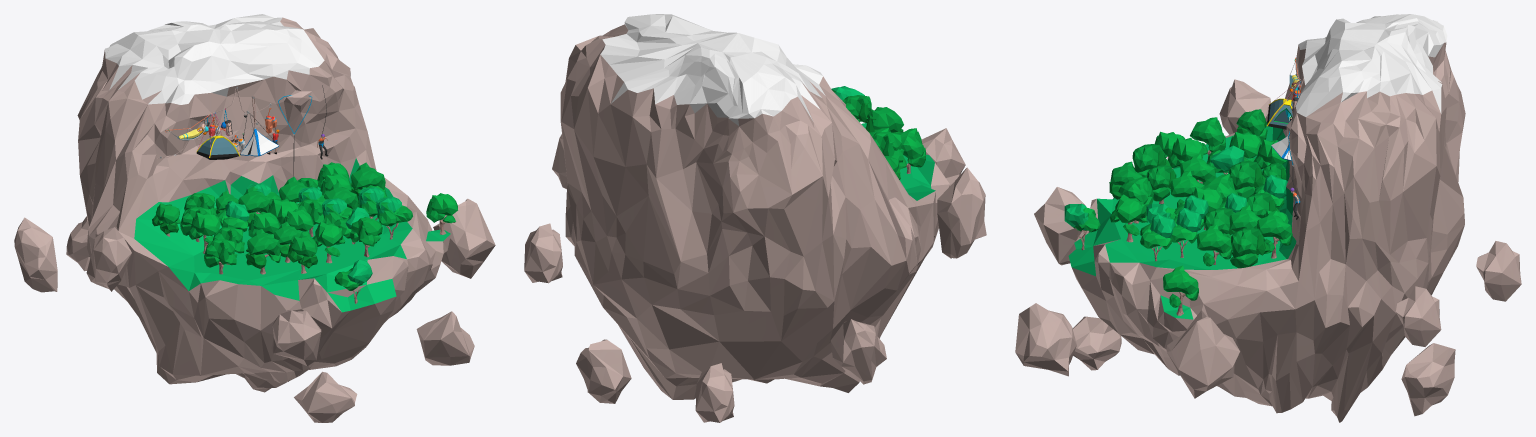
Rendered from land_96.fbx.
3 renders of one model, left to right at view 1: azimuth 30°, elevation 25°; view 2: azimuth 150°, elevation 25°; view 3: azimuth 270°, elevation 25°, orthographic. The views are drawn at different scales.
Parts seen in each view (by area): view 1: Cube.032, Sphere.043, Sphere.014, Sphere.040, Sphere.042, Sphere.011, Sphere.041, land_96.275, land_96.271, Sphere.013, land_96.274, land_96.145 (+22 smaller); view 2: Cube.032, Sphere.011, Sphere.039, Sphere.014, Sphere.013, Sphere.038, Sphere.042, land_96.274, land_96.275, land_96.264, land_96.276, Sphere.043; view 3: Cube.032, Sphere.043, Sphere.040, Sphere.039, Sphere.042, Sphere.038, Sphere.013, Sphere.041, Sphere.011, land_96.247, land_96.145, land_96.277 (+24 smaller).
Part boxes in pixels (box(x1,y1,x2,y2)): Cube.032: box(77, 14, 450, 392); Sphere.043: box(433, 198, 495, 278); Sphere.014: box(14, 217, 57, 292); Sphere.040: box(416, 311, 474, 365); Sphere.042: box(271, 310, 321, 366); Sphere.011: box(86, 227, 131, 291); Sphere.041: box(294, 371, 357, 422); land_96.275: box(245, 229, 280, 274); land_96.271: box(376, 196, 412, 239); Sphere.013: box(66, 216, 89, 271); land_96.274: box(204, 239, 237, 274); land_96.145: box(426, 193, 457, 234); Cube.032: box(560, 14, 949, 399); Sphere.011: box(937, 167, 986, 258); Sphere.039: box(576, 339, 631, 403); Sphere.014: box(830, 319, 886, 384); Sphere.013: box(695, 363, 734, 422); Sphere.038: box(524, 223, 562, 283); Sphere.042: box(921, 128, 965, 185); land_96.274: box(895, 128, 925, 173); land_96.275: box(865, 107, 903, 133); land_96.264: box(871, 131, 903, 162); land_96.276: box(843, 95, 873, 123); Sphere.043: box(552, 134, 567, 189); Cube.032: box(1068, 14, 1465, 422); Sphere.043: box(1166, 310, 1239, 398); Sphere.040: box(1015, 303, 1076, 376); Sphere.039: box(1401, 343, 1455, 416); Sphere.042: box(1034, 187, 1088, 265); Sphere.038: box(1395, 286, 1441, 346); Sphere.013: box(1476, 241, 1521, 301); Sphere.041: box(1072, 316, 1121, 370); Sphere.011: box(1219, 79, 1270, 134); land_96.247: box(1230, 227, 1270, 268); land_96.145: box(1163, 265, 1198, 315); land_96.277: box(1110, 194, 1147, 242).
Bounding box in the file's own units: 27.91 × 22.99 × 28.92.
